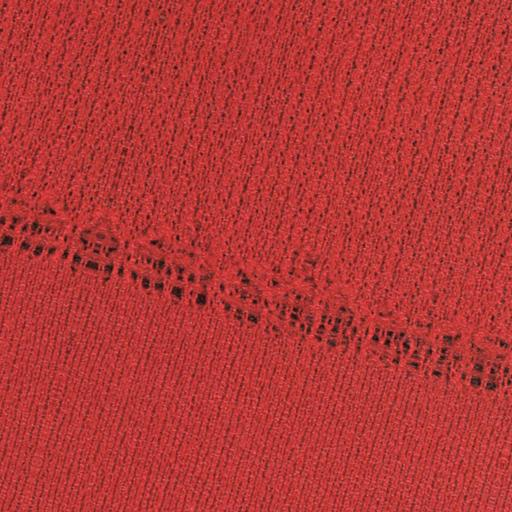slub: (2, 178, 512, 416)
